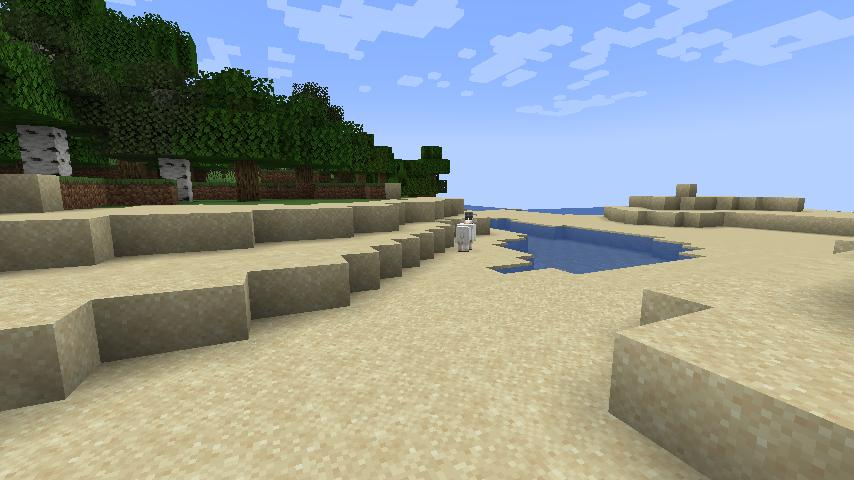goat: (456, 211, 478, 253)
